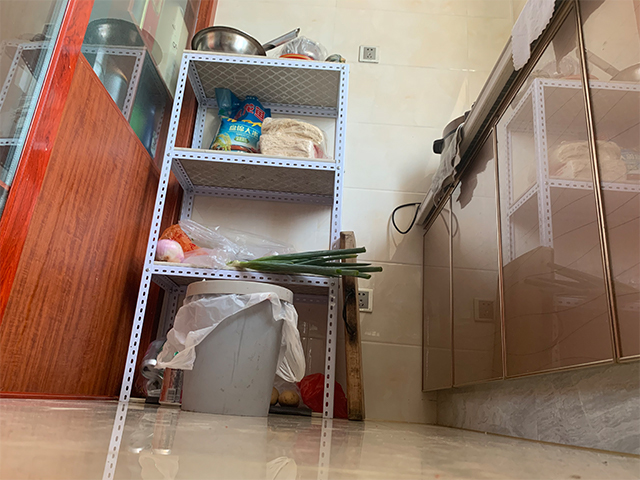cabinet: (413, 1, 640, 458)
trashcan: (180, 278, 294, 418)
